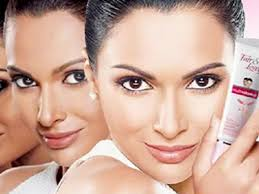white_female: (104, 33, 235, 183)
